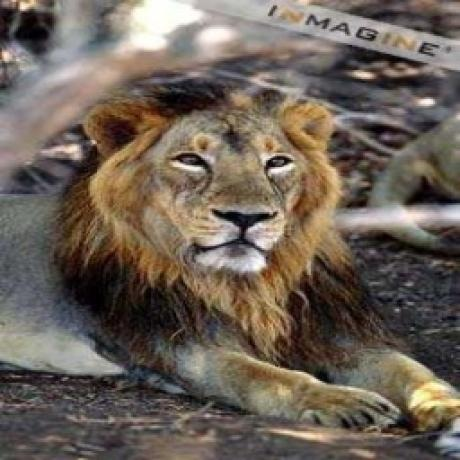Lion: (0, 71, 460, 437)
